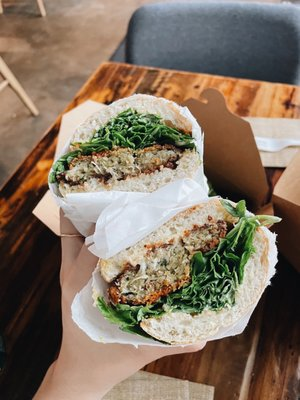soup: (90, 196, 282, 345), (49, 94, 209, 197)
